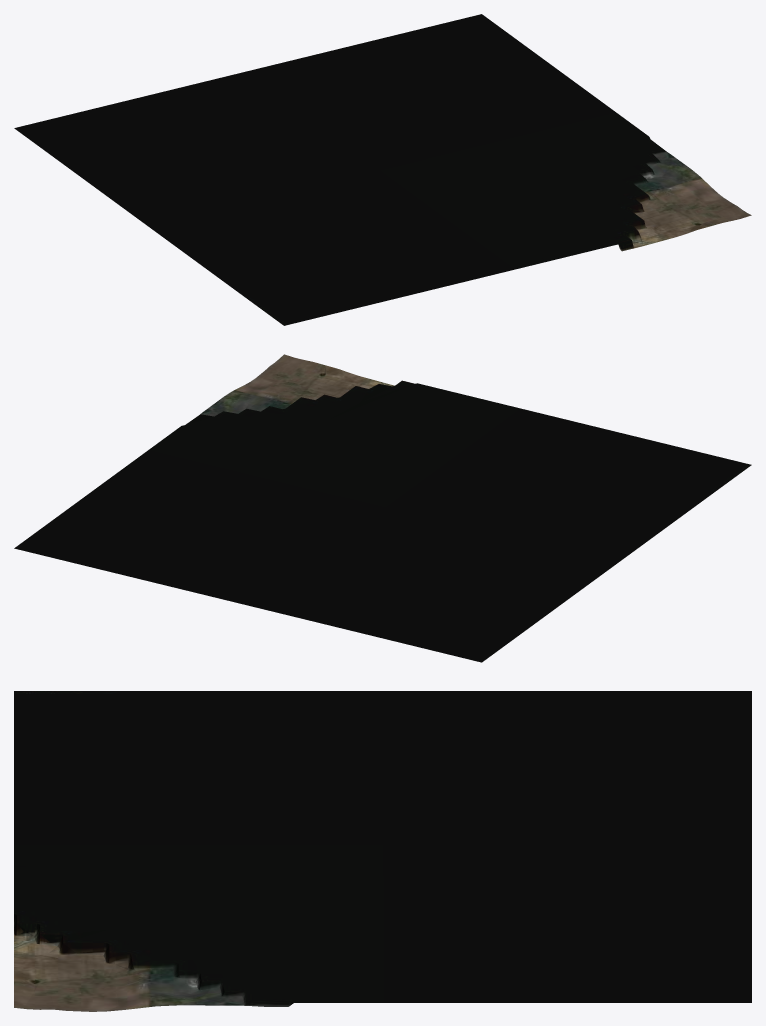
Rendered from map_10_250_431.dae.
3 renders of one model, top to bottom at view 1: azimuth 30°, elevation 25°; view 2: azimuth 150°, elevation 25°; view 3: azimuth 270°, elevation 25°, orthographic. The views are drawn at different scales.
Parts seen in each view (by area): view 1: Ter0; view 2: Ter0; view 3: Ter0.
Part boxes in pixels (bbox=[...]): Ter0: bbox=[14, 14, 751, 325]; Ter0: bbox=[14, 354, 751, 662]; Ter0: bbox=[14, 691, 751, 1011].
Size of the model in its own units: 2044 by 2044 by 32.95.
2 materials, 2 textured.
